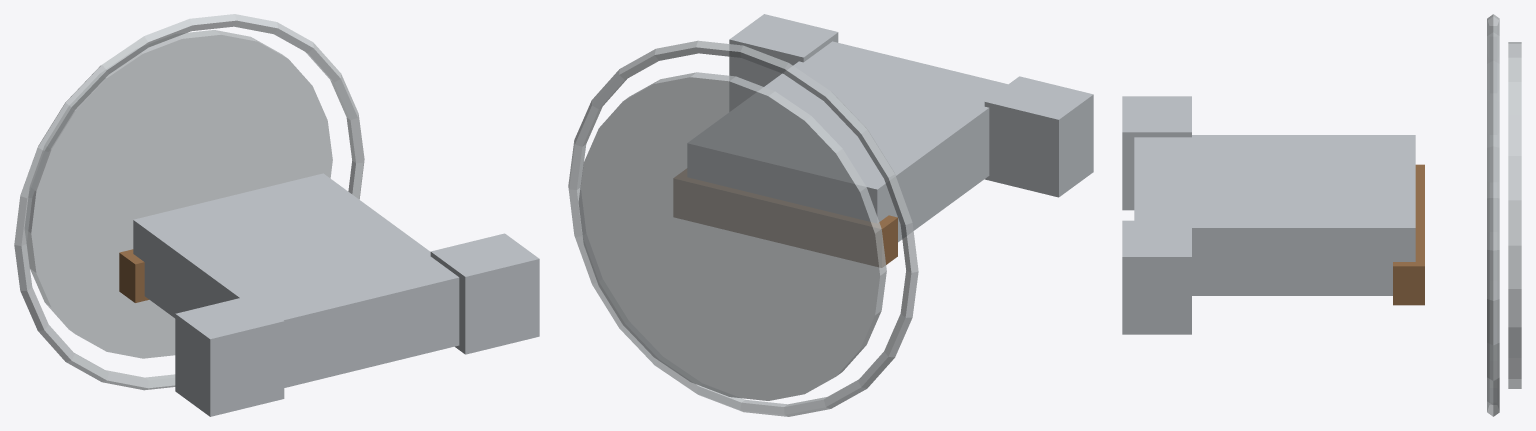
File: armor_pickup_chestplate_common.glb
3 views of the same model, side by side, from view 1: azimuth 30°, elevation 25°; view 2: azimuth 150°, elevation 25°; view 3: azimuth 270°, elevation 25° (orthographic).
Parts seen in each view (by area): view 1: rarity_base_disc, torso_plate, left_pauldron, rarity_orbit_ring, right_pauldron, belt; view 2: rarity_base_disc, torso_plate, rarity_orbit_ring, left_pauldron, belt, right_pauldron; view 3: torso_plate, right_pauldron, rarity_orbit_ring, rarity_base_disc, left_pauldron, belt.
Boxes of the visible parts, x1,y1,x2,y2 form: rarity_base_disc: (25, 30, 332, 358); torso_plate: (133, 173, 459, 387); left_pauldron: (175, 295, 284, 416); rarity_orbit_ring: (14, 14, 364, 390); right_pauldron: (430, 233, 539, 354); belt: (119, 249, 149, 302); rarity_base_disc: (578, 72, 886, 400); torso_plate: (688, 41, 1007, 242); rarity_orbit_ring: (568, 40, 918, 416); left_pauldron: (984, 76, 1093, 197); belt: (674, 169, 897, 267); right_pauldron: (729, 14, 838, 110); torso_plate: (1134, 135, 1415, 295); right_pauldron: (1122, 220, 1191, 334); rarity_orbit_ring: (1487, 14, 1499, 416); rarity_base_disc: (1508, 42, 1521, 388); left_pauldron: (1122, 96, 1191, 210); belt: (1393, 164, 1424, 305).
Bounding box in the file's own units: 1.51 × 1.51 × 1.49.
